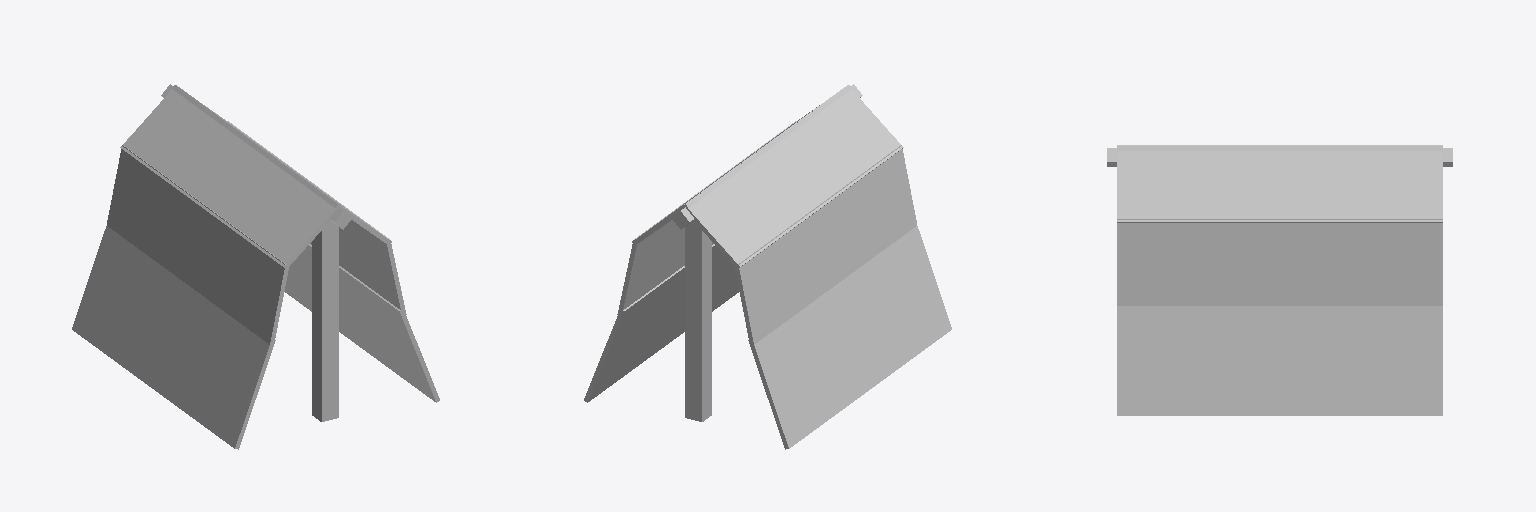
File: tent.obj
The picture shows the model from 3 angles: view 1: azimuth 30°, elevation 25°; view 2: azimuth 150°, elevation 25°; view 3: azimuth 270°, elevation 25°; orthographic projection.
Parts seen in each view (by area): view 1: bottom, mid, top, back; view 2: bottom, mid, top, front; view 3: bottom, mid, top.
Part boxes in pixels (x1,y1,x2,y2): bottom: (72, 226, 439, 449); mid: (107, 121, 406, 347); top: (120, 84, 391, 268); back: (312, 221, 338, 421); bottom: (584, 226, 951, 449); mid: (617, 121, 916, 347); top: (632, 84, 903, 268); front: (685, 221, 711, 421); bottom: (1117, 306, 1442, 415); mid: (1117, 219, 1442, 305); top: (1107, 145, 1452, 222).
Size of the model in its own units: 3 by 3.1 by 4.38.